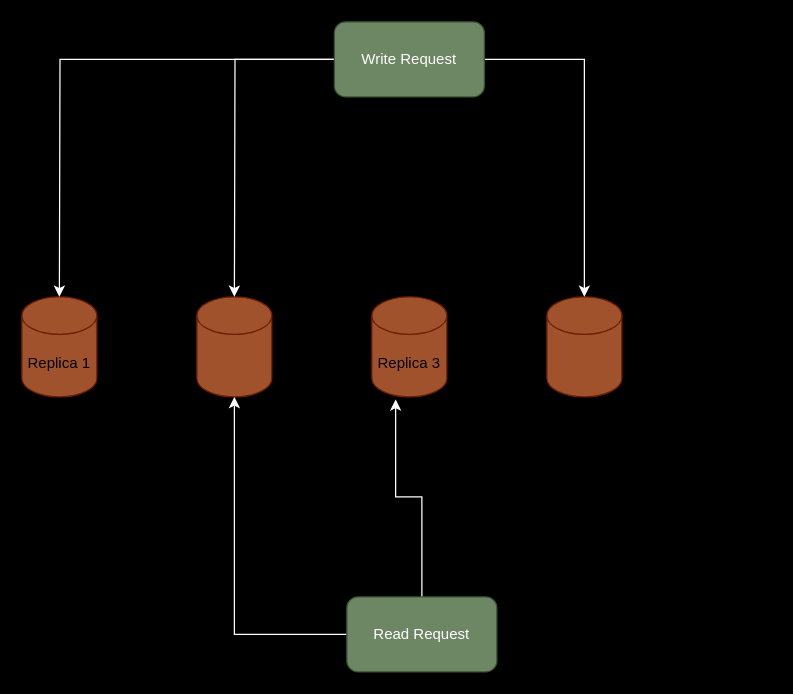
Some shapes in this 793 by 694 pixel diagram are drawn without their labels. The shapes that lost their labels are listed below. From the top down, each one's box as (x1, y1, x2, y2) in pixels, then its label:
(196, 296, 272, 397): Replica 2
(546, 296, 622, 397): Replica 4
